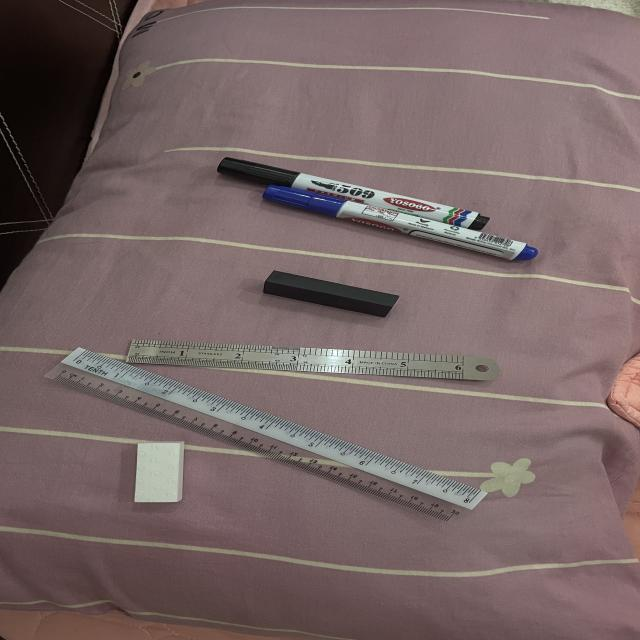eraser: (264, 271, 399, 317), (134, 442, 183, 502)
marker: (263, 185, 537, 260), (217, 157, 488, 231)
ruler: (45, 348, 488, 524), (126, 340, 499, 380)
